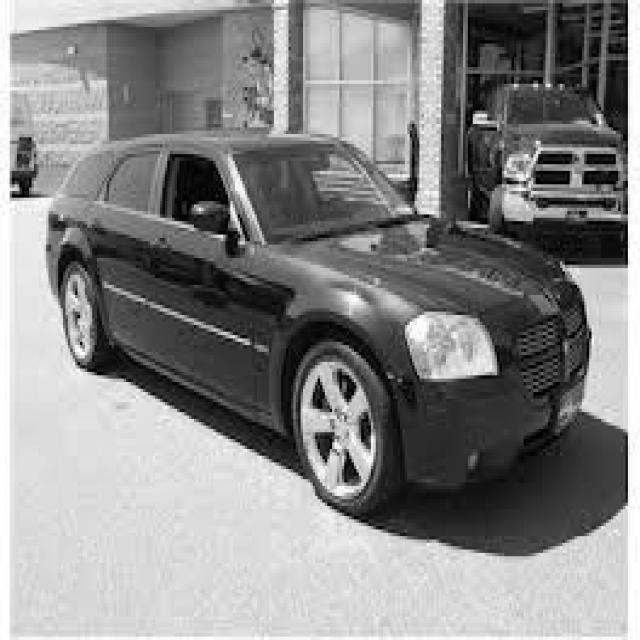car: (44, 124, 592, 516)
